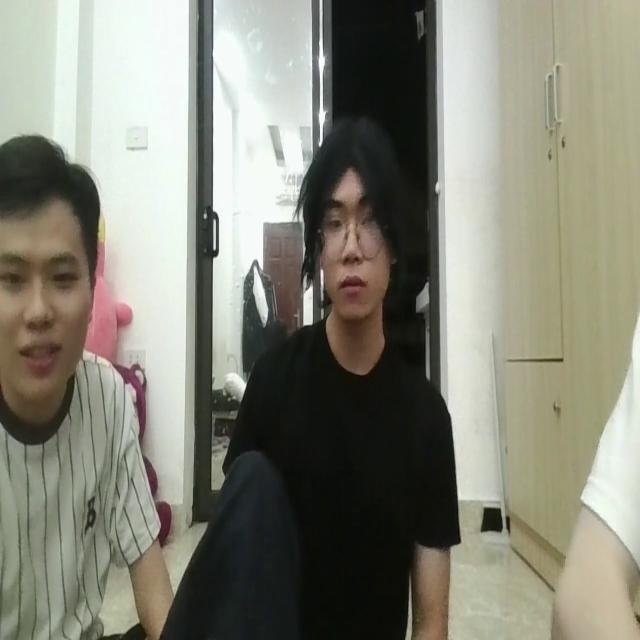extra_person: (0, 114, 177, 640)
student: (178, 98, 460, 640)
